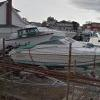Boat: (9, 31, 100, 75)
